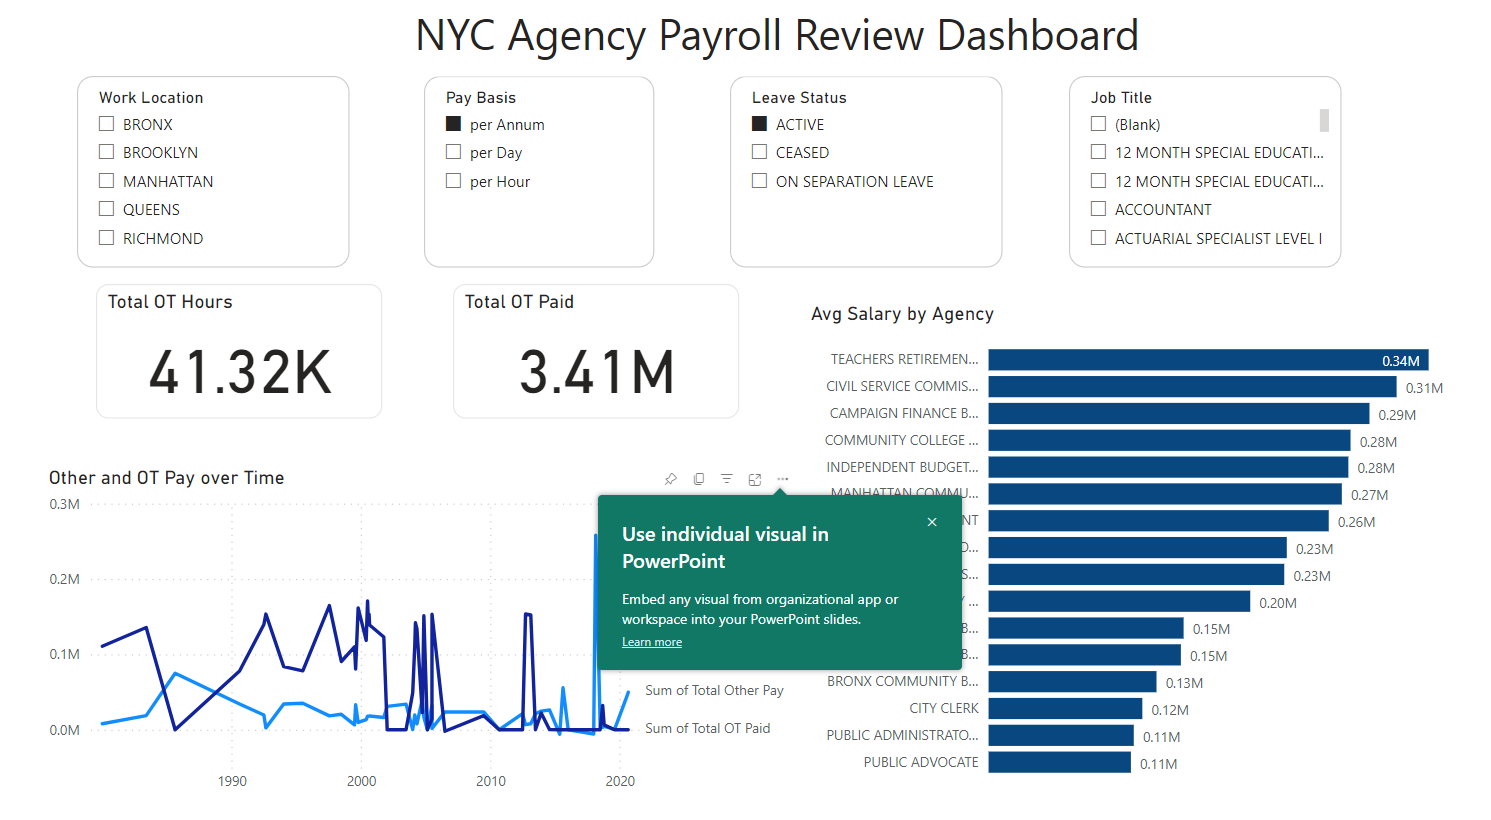

Layout of this report page (visuals, bound fields, positions):
{"tool":"powerbi","page":{"name":"Page 1","canvas":[1280,720],"ordinal":0},"visuals":[{"type":"clusteredBarChart","title":"Avg Salary by Agency","fields":{"Category":["NYC_Payroll_AGENCY_MD.AgencyName"],"Y":["Avg(NYC_Payroll_Data.BaseSalary)"]},"box":[689.2,265.4,590.5,427.5],"z":0},{"type":"card","title":"Total OT Paid","fields":{"Values":["Sum(NYC_Payroll_Data.TotalOTPaid)"]},"box":[380.4,250,250.9,117.7],"z":2},{"type":"slicer","fields":{"Values":["NYC_Payroll_Data.PayBasis"]},"box":[355,67.9,202,168.5],"z":3},{"type":"card","title":"Total OT Hours","fields":{"Values":["Sum(NYC_Payroll_Data.OTHours)"]},"box":[67.9,250,250.9,117.7],"z":4},{"type":"slicer","fields":{"Values":["NYC_Payroll_Data.LeaveStatusasofJune30"]},"box":[623.1,67.9,239.1,168.5],"z":5},{"type":"textbox","box":[0,0,1279.7,67.9],"z":6},{"type":"slicer","fields":{"Values":["NYC_Payroll_Data.WorkLocationBorough"]},"box":[50.7,67.9,239.1,168.5],"z":7},{"type":"slicer","fields":{"Values":["NYC_Payroll_TITLE_MD.TitleDescription"]},"box":[921.1,67.9,239.1,168.5],"z":8},{"type":"lineChart","title":"Other and OT Pay over Time","fields":{"Category":["NYC_Payroll_Data.AgencyStartDate"],"Y":["Sum(NYC_Payroll_Data.TotalOtherPay)","Sum(NYC_Payroll_Data.TotalOTPaid)"]},"box":[20.8,409.4,660.2,294.3],"z":9}]}

Visuals, with their boxes in screenshot pixels (x1, y1, x2, y2), scaled from the page's 1280x720 canvas onto the 1491x820 screenshot:
"Avg Salary by Agency" clusteredBarChart: BBox(803, 302, 1490, 789)
"Total OT Paid" card: BBox(443, 285, 735, 419)
slicer - NYC_Payroll_Data.PayBasis: BBox(414, 77, 649, 269)
"Total OT Hours" card: BBox(79, 285, 371, 419)
slicer - NYC_Payroll_Data.LeaveStatusasofJune30: BBox(726, 77, 1004, 269)
textbox: BBox(0, 0, 1490, 77)
slicer - NYC_Payroll_Data.WorkLocationBorough: BBox(59, 77, 338, 269)
slicer - NYC_Payroll_TITLE_MD.TitleDescription: BBox(1073, 77, 1351, 269)
"Other and OT Pay over Time" lineChart: BBox(24, 466, 793, 801)
